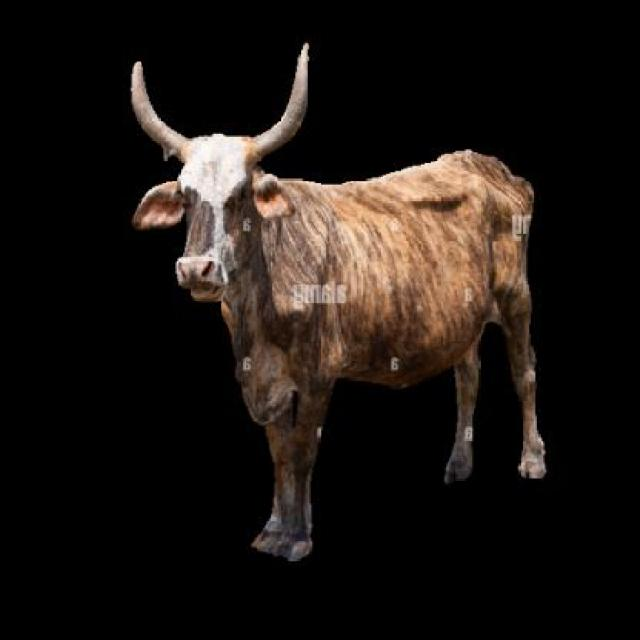Cow: (128, 45, 554, 563)
